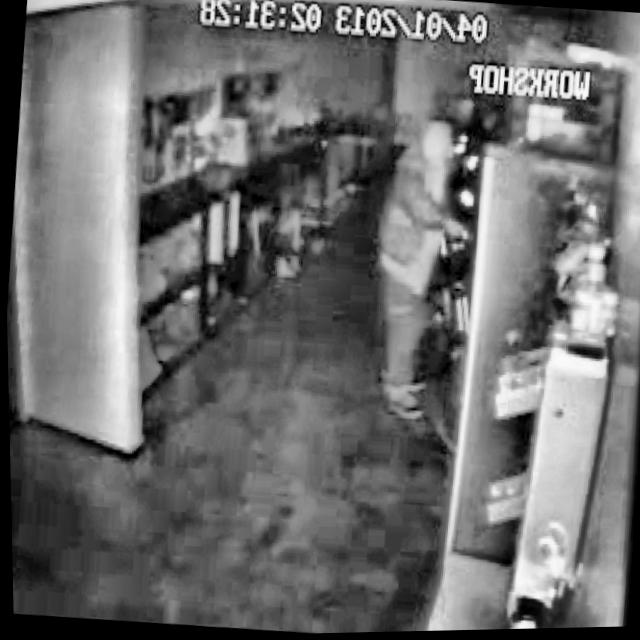burglary: (351, 111, 493, 445)
